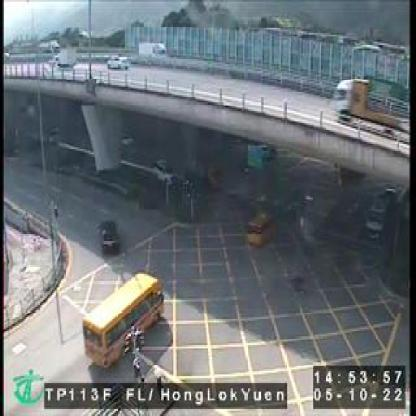Bus: (82, 272, 162, 369)
Car: (102, 220, 118, 251)
